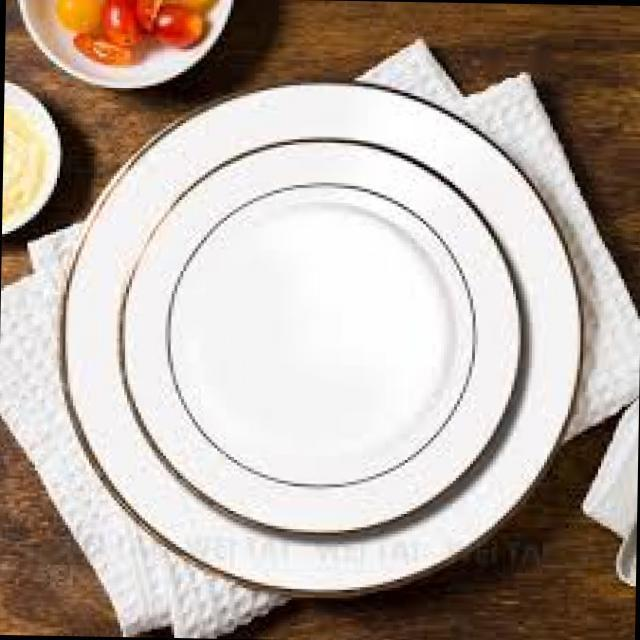plate: (47, 72, 596, 604)
